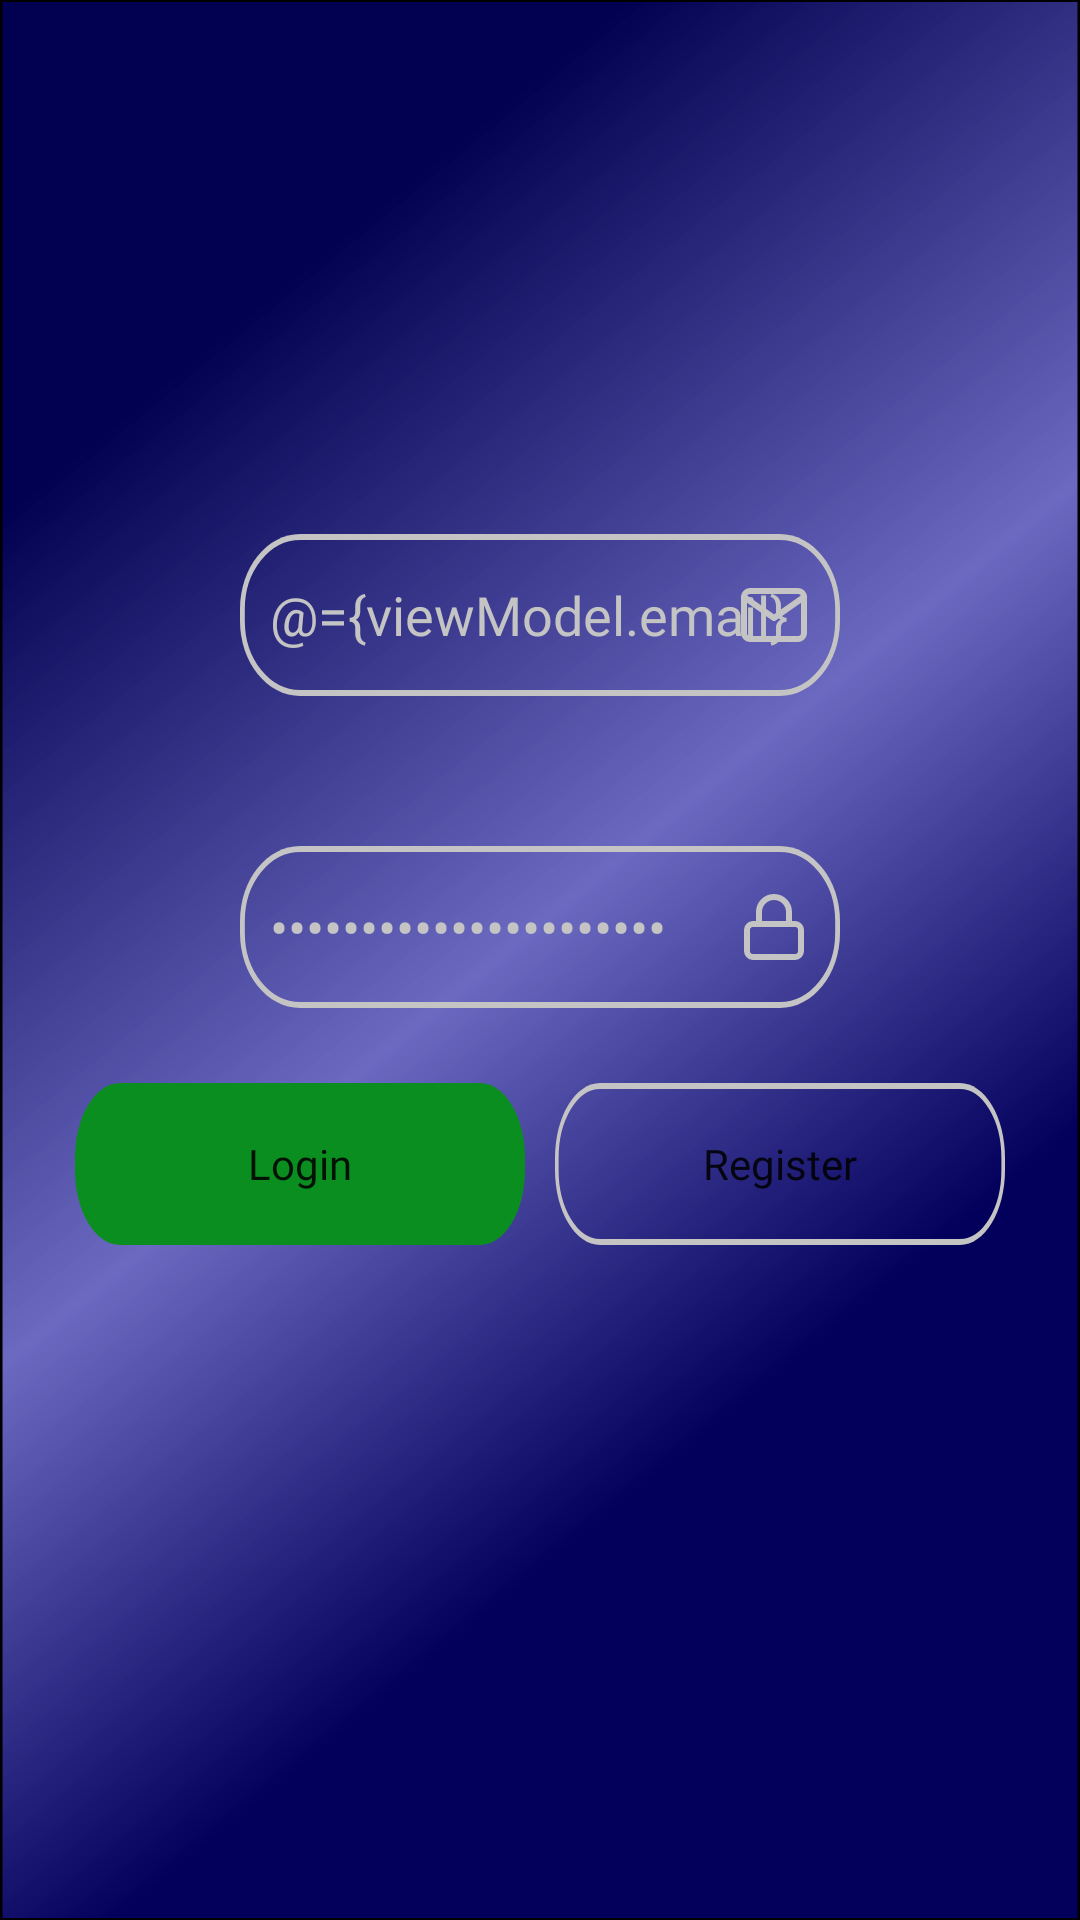

Icons on this 1080 × 1920 Android screen, each with the point to tap as (x=x, y=y):
lock: (x=774, y=927)
